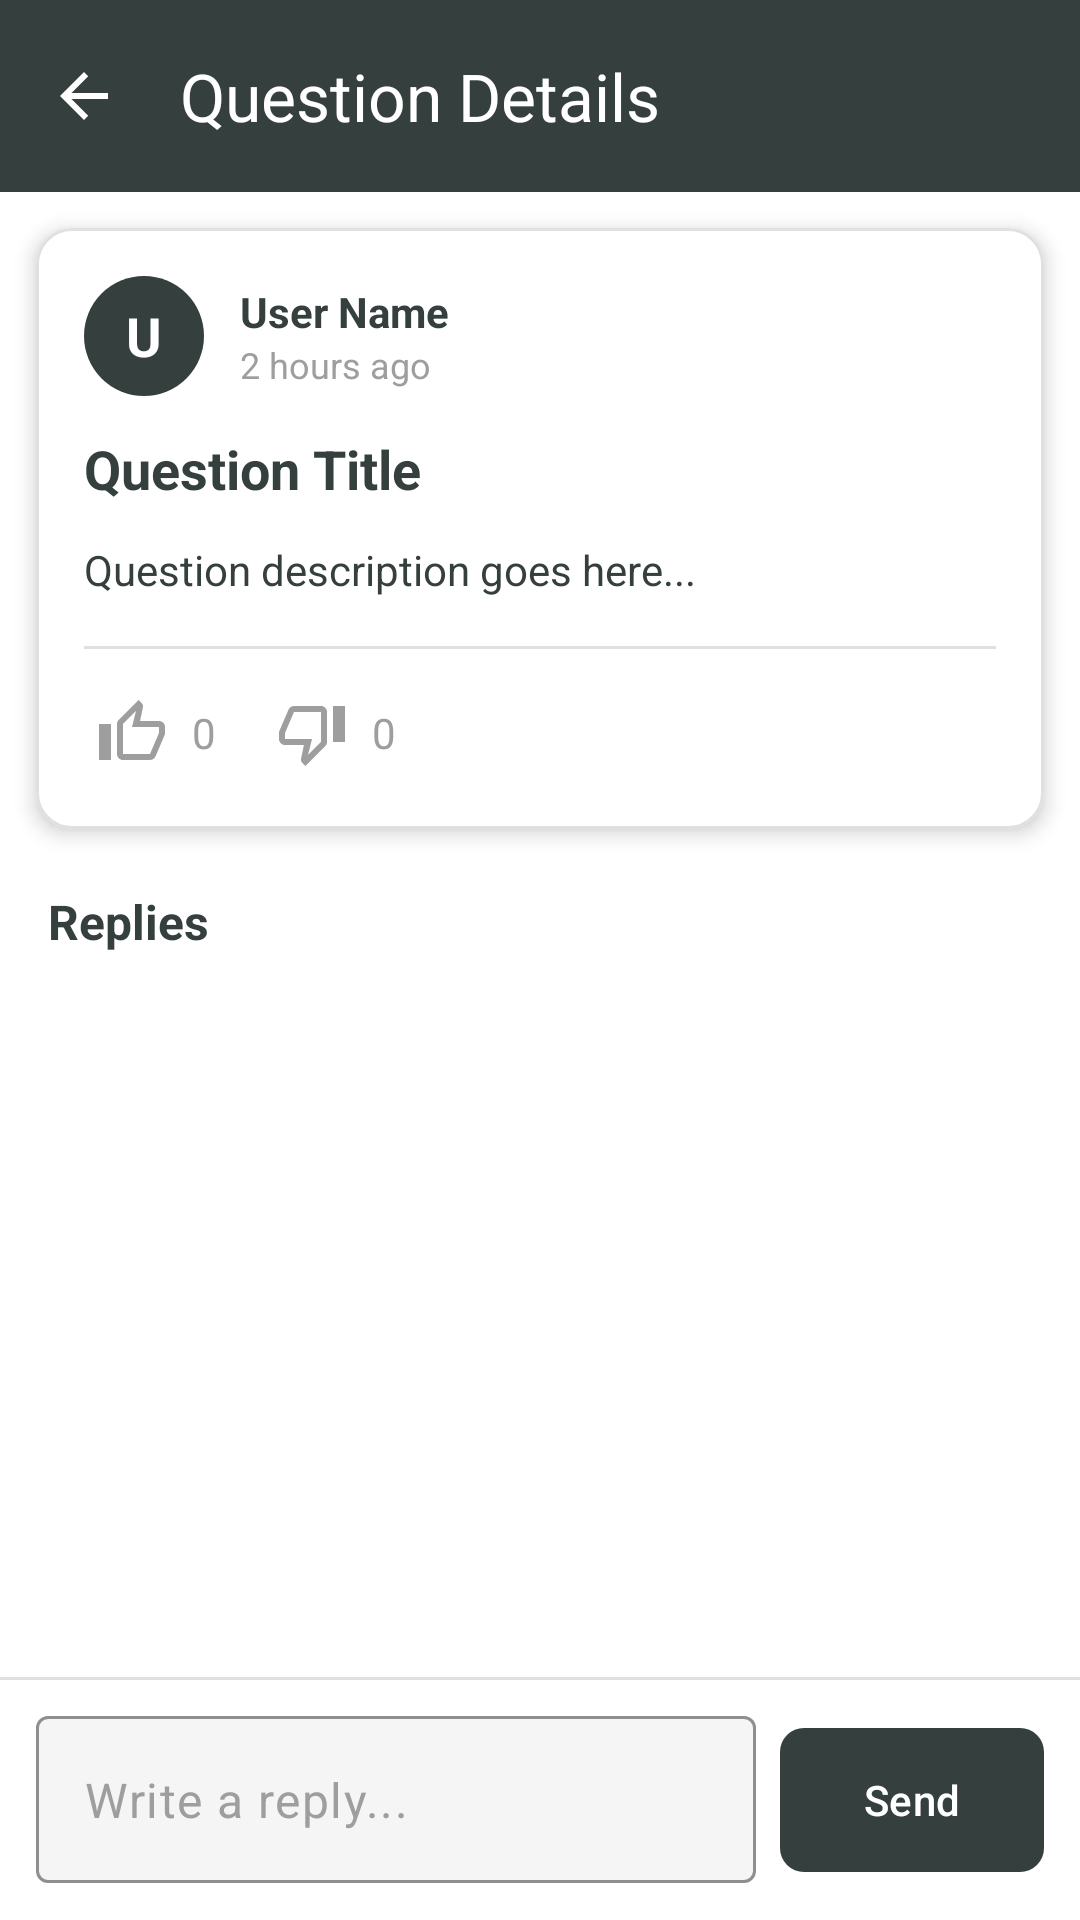

Icon click points for this 1080x1920 phone screenshot, format (x,y):
Dislike: (312,736)
Like: (132,730)
